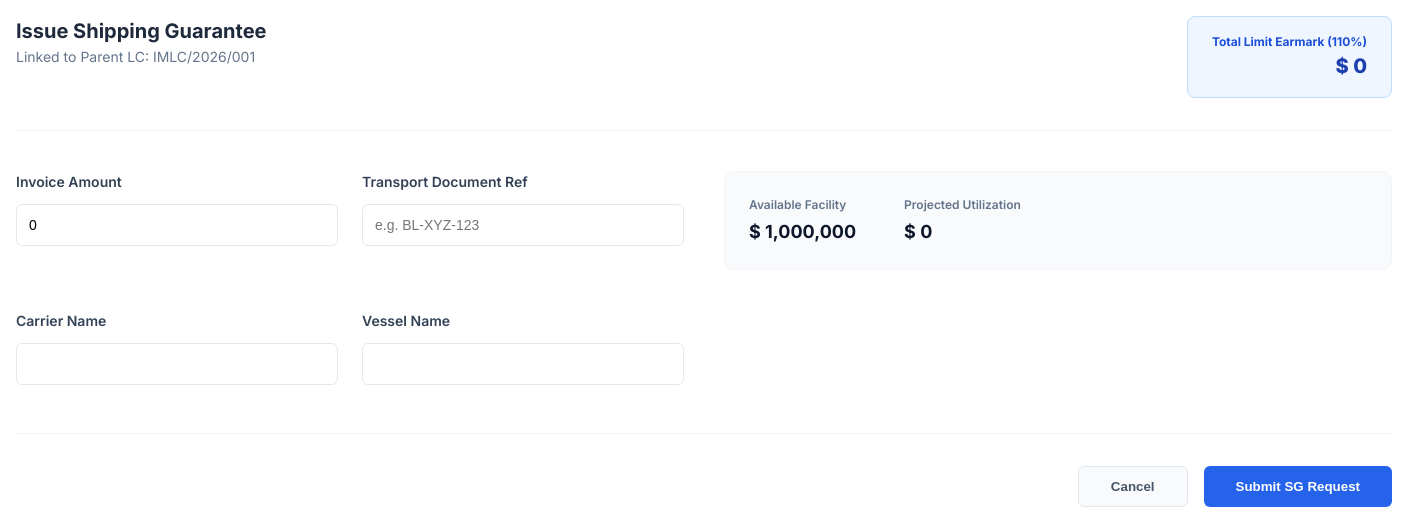
Test: ShippingGuaranteeForm (REQ-IMP-PRC-05) › Calculates the 110% over-collateralized earmark amount
Replace the text in the number field labelled "Invoice Amount" with "100000" at (177, 225), box x1=16 y1=204 x2=338 y2=246
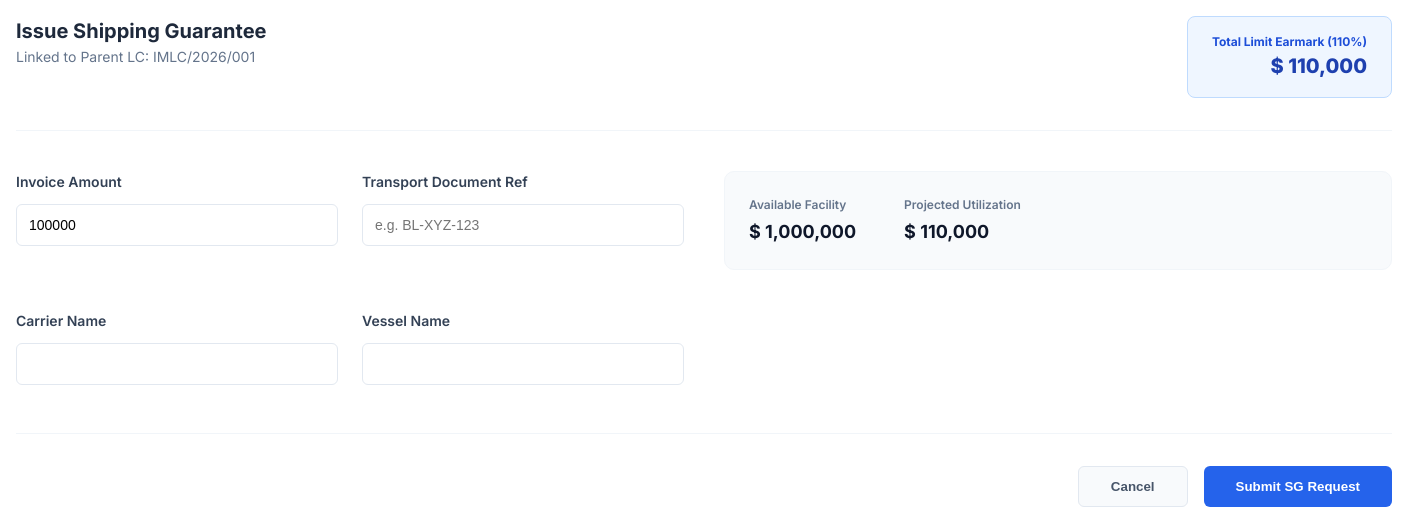
Now the text with test id "earmark-value" reads "$ 110,000", box x1=1271 y1=54 x2=1367 y2=78
